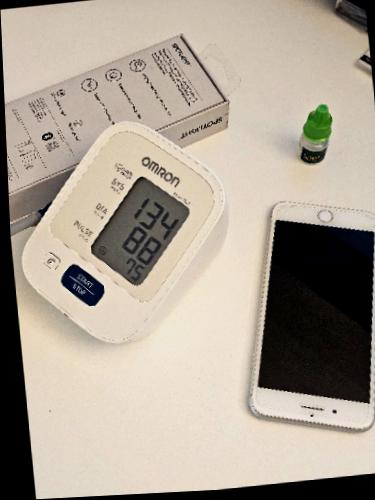bpm: (84, 173, 194, 290)
